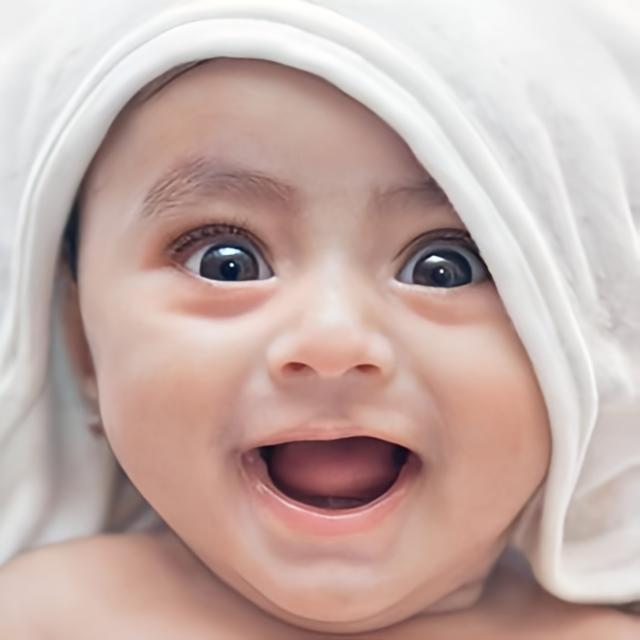surprise: (75, 55, 557, 624)
